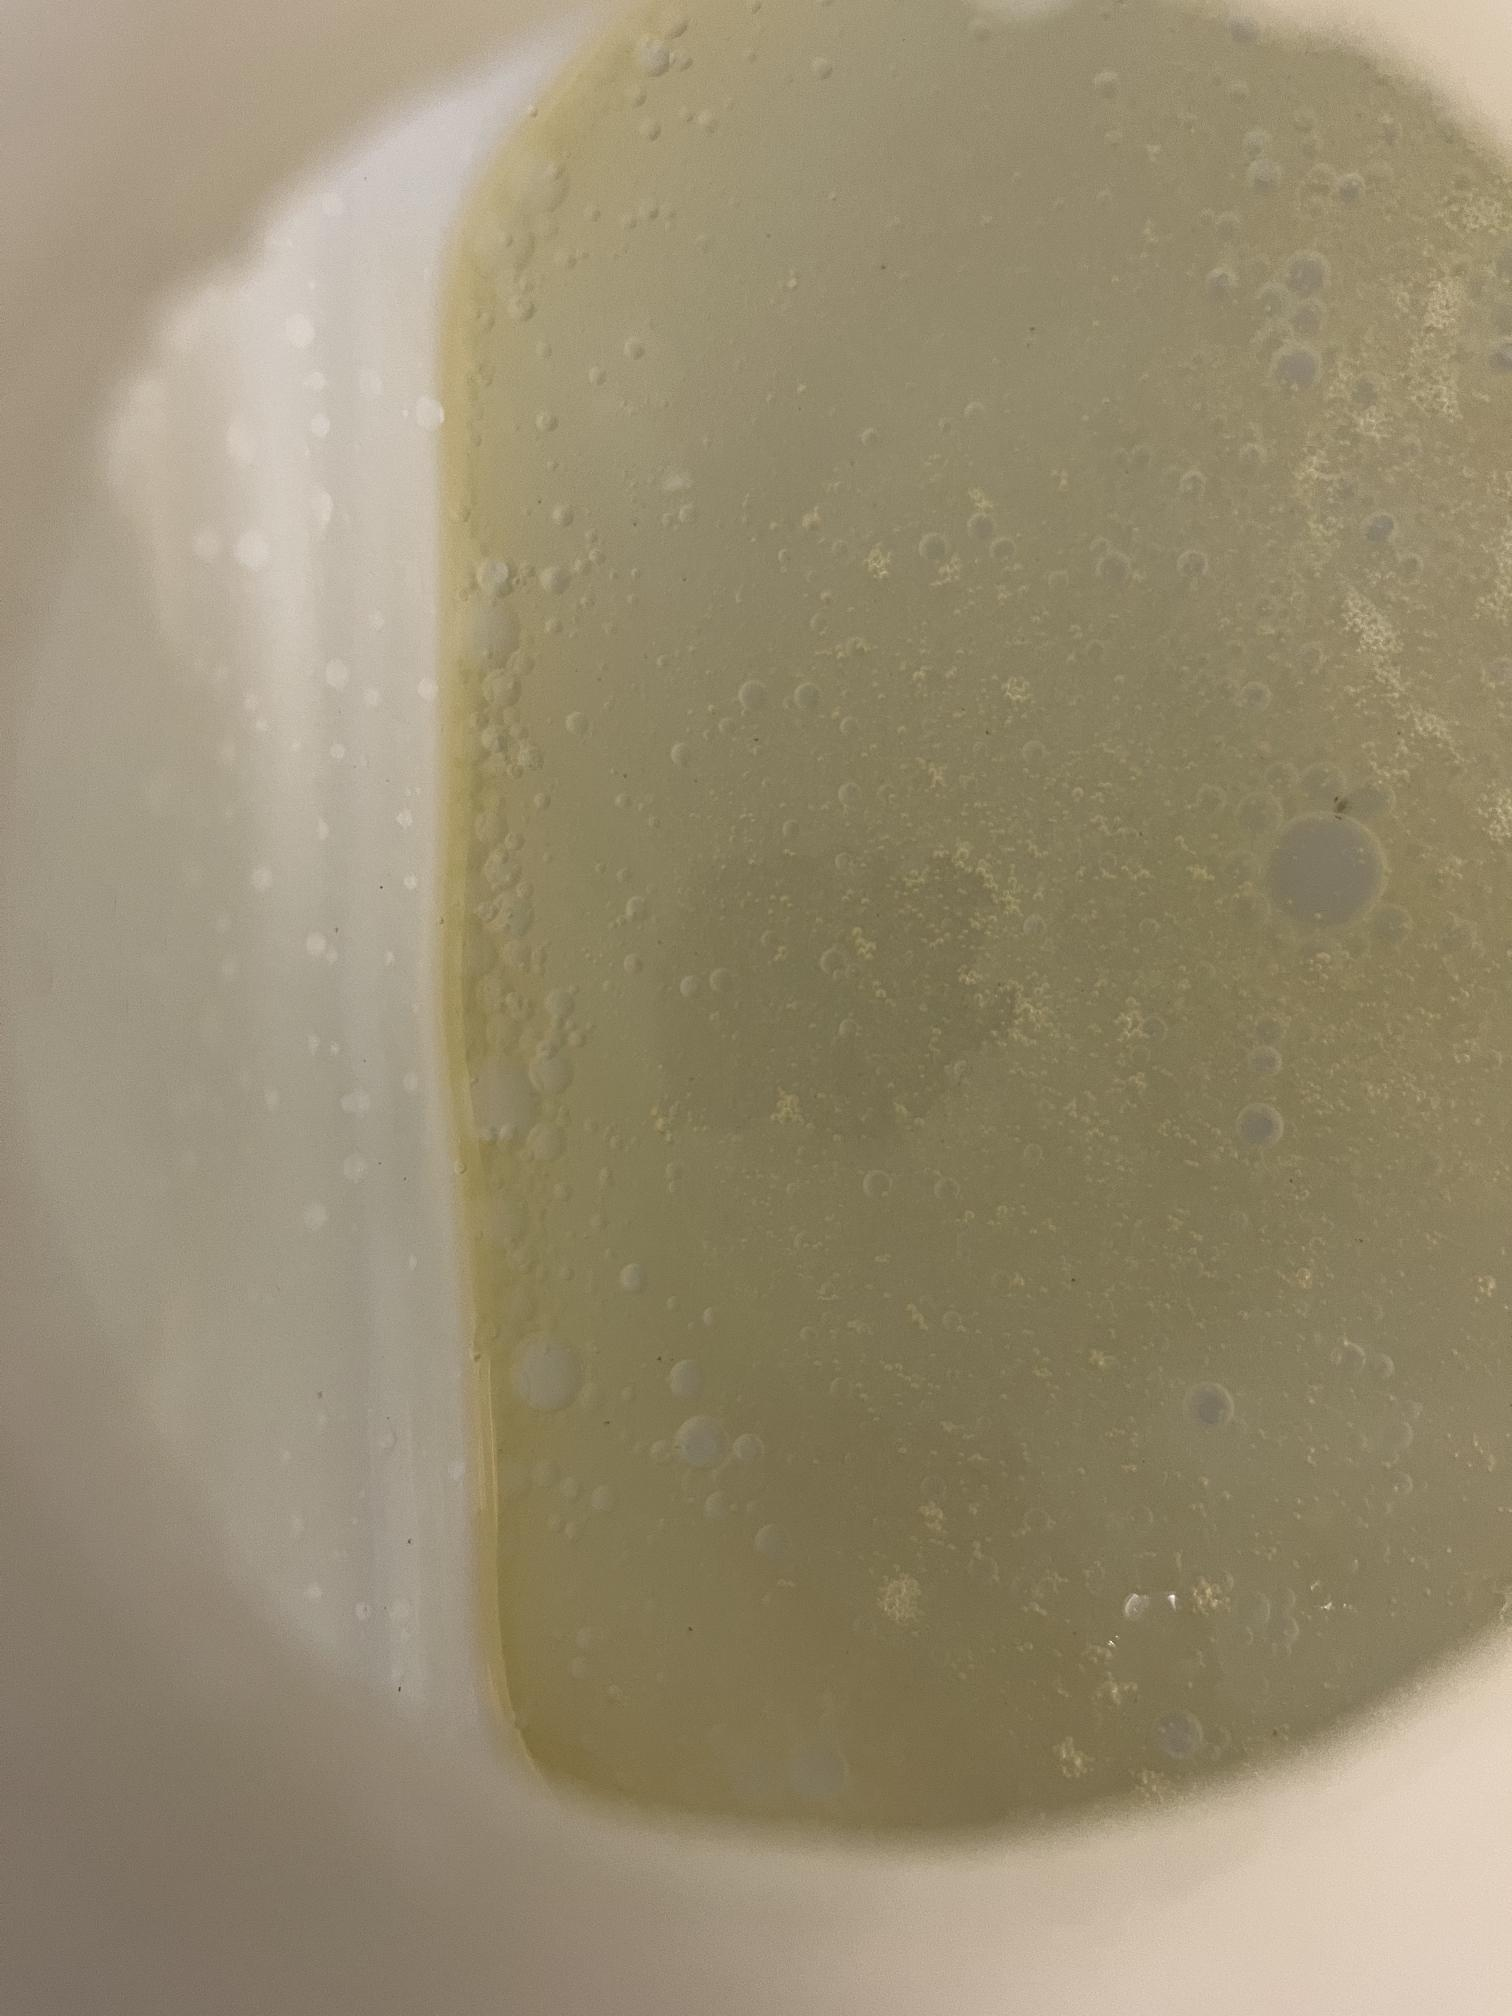Presenca de Oleo - - 200ml: (149, 40, 1436, 1895)
